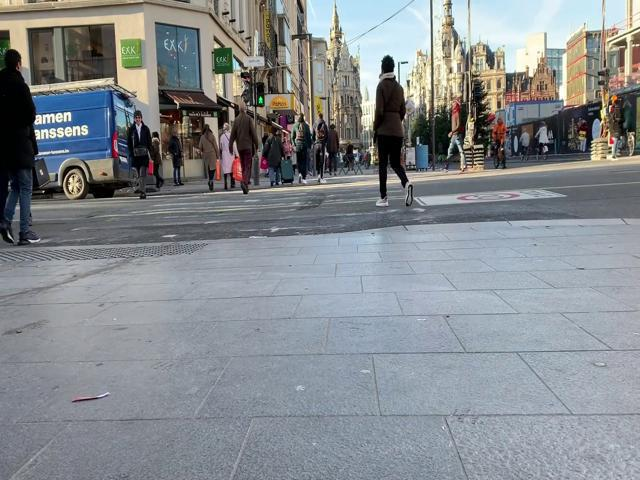shoe: (1, 222, 16, 243), (19, 231, 41, 244), (405, 183, 413, 207), (376, 196, 389, 207)
